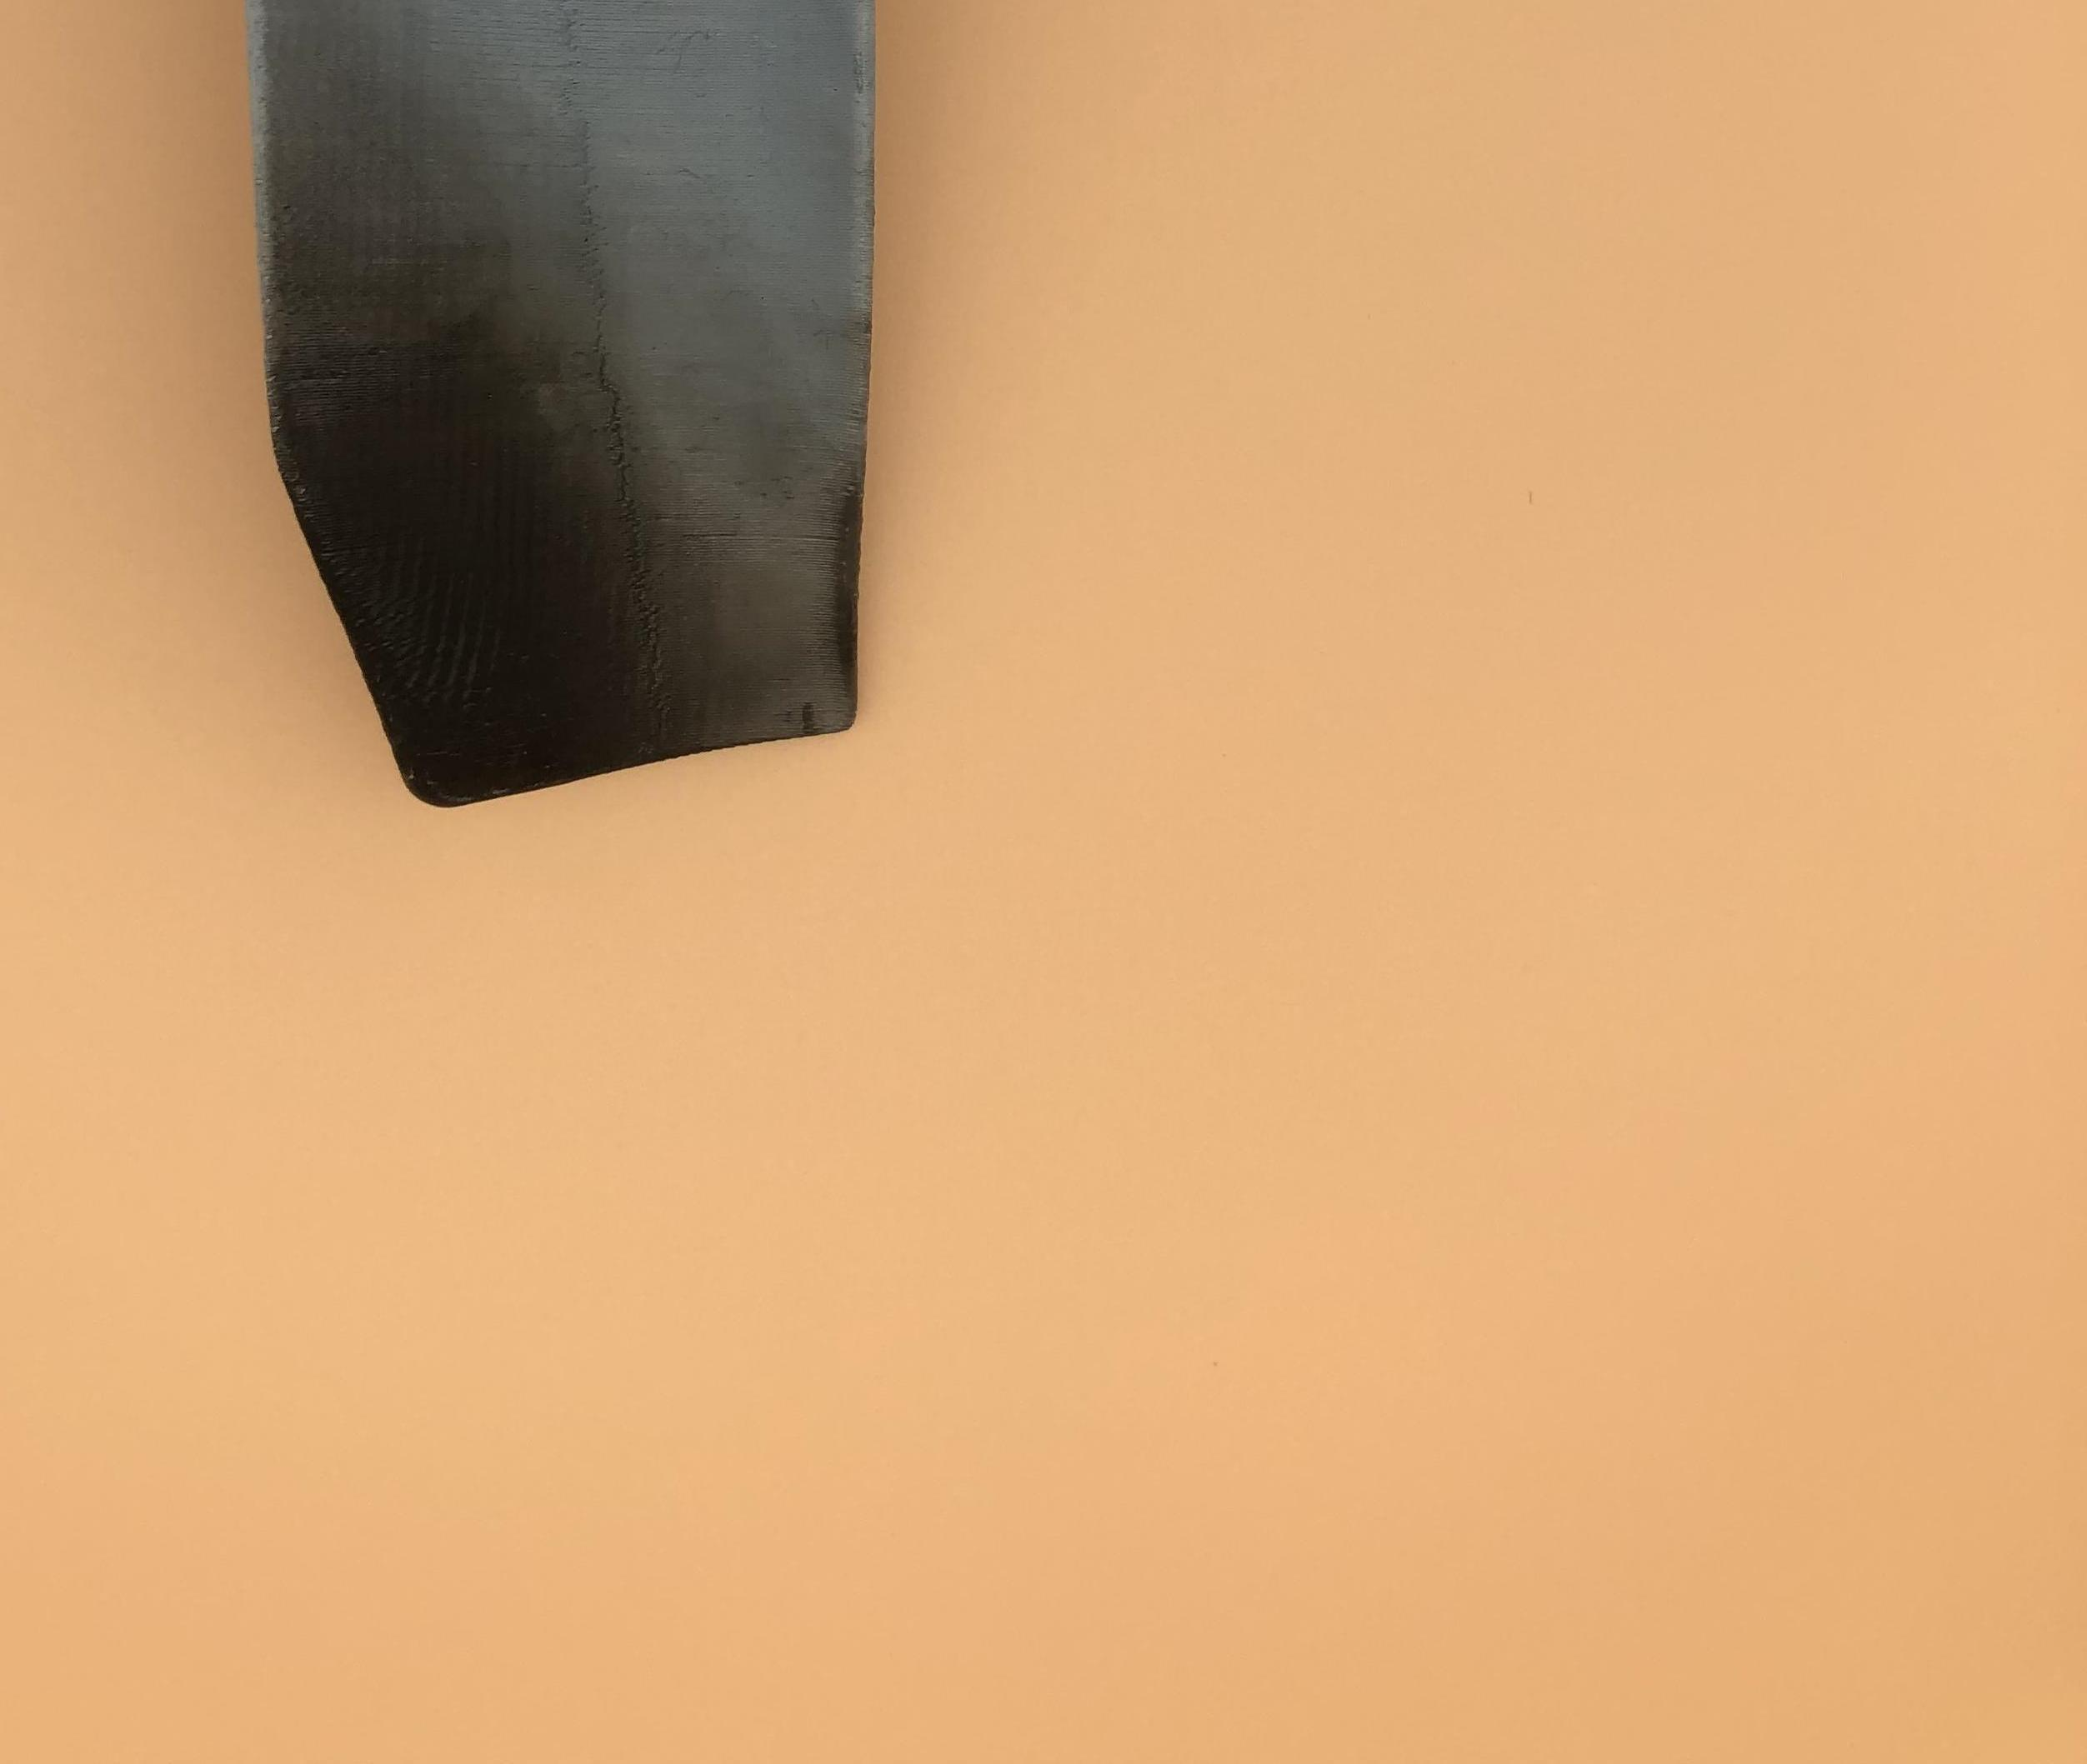ablation: (305, 402, 748, 740)
